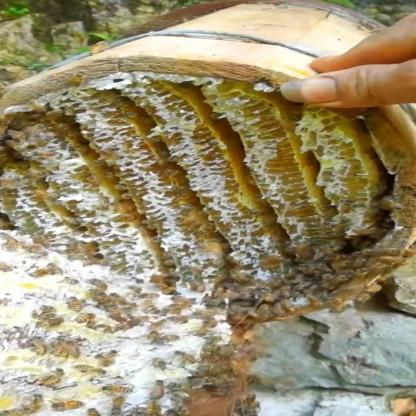bee: (0, 286, 194, 416), (218, 245, 410, 314), (193, 335, 255, 416), (108, 294, 186, 336), (3, 252, 94, 288), (366, 182, 416, 235), (92, 373, 152, 415), (13, 334, 74, 375), (0, 388, 88, 416), (15, 306, 110, 330), (0, 226, 41, 272)
